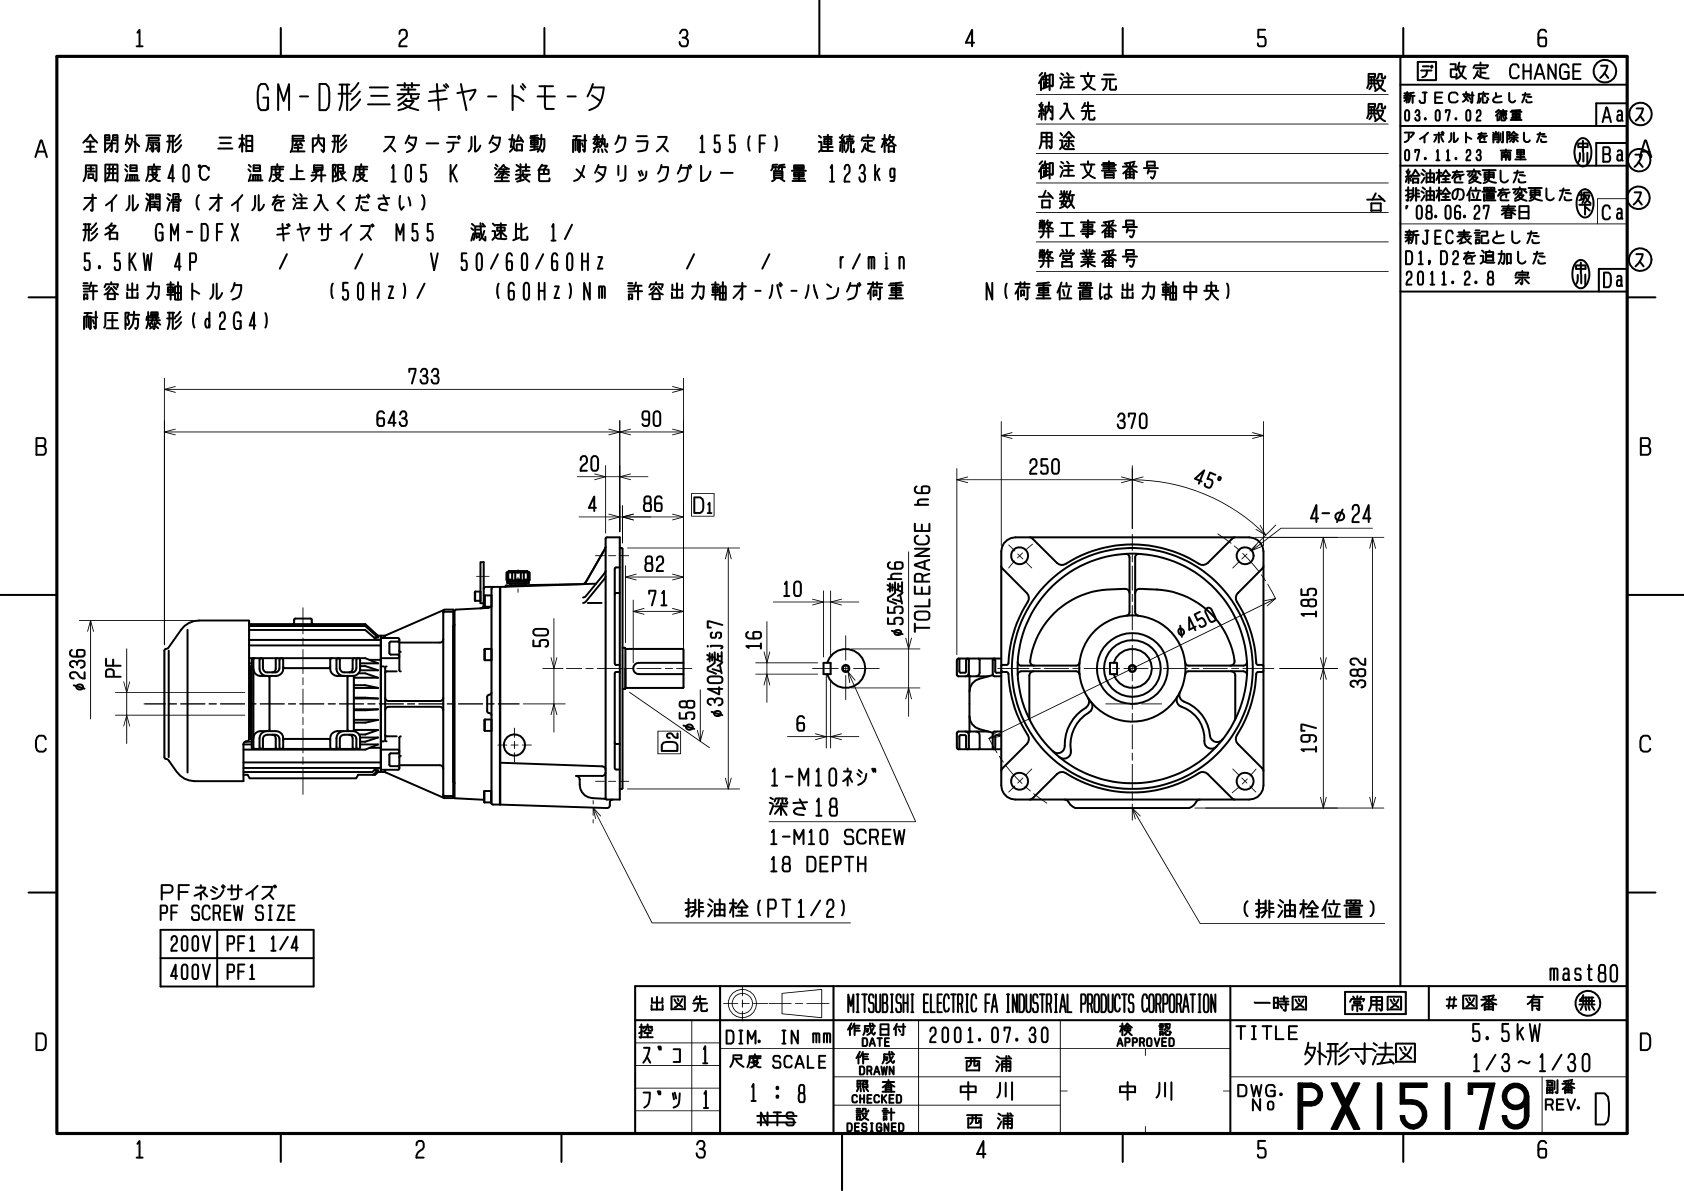GM_SP_屋内＿三相_フランジ: (63, 345, 1392, 959)
